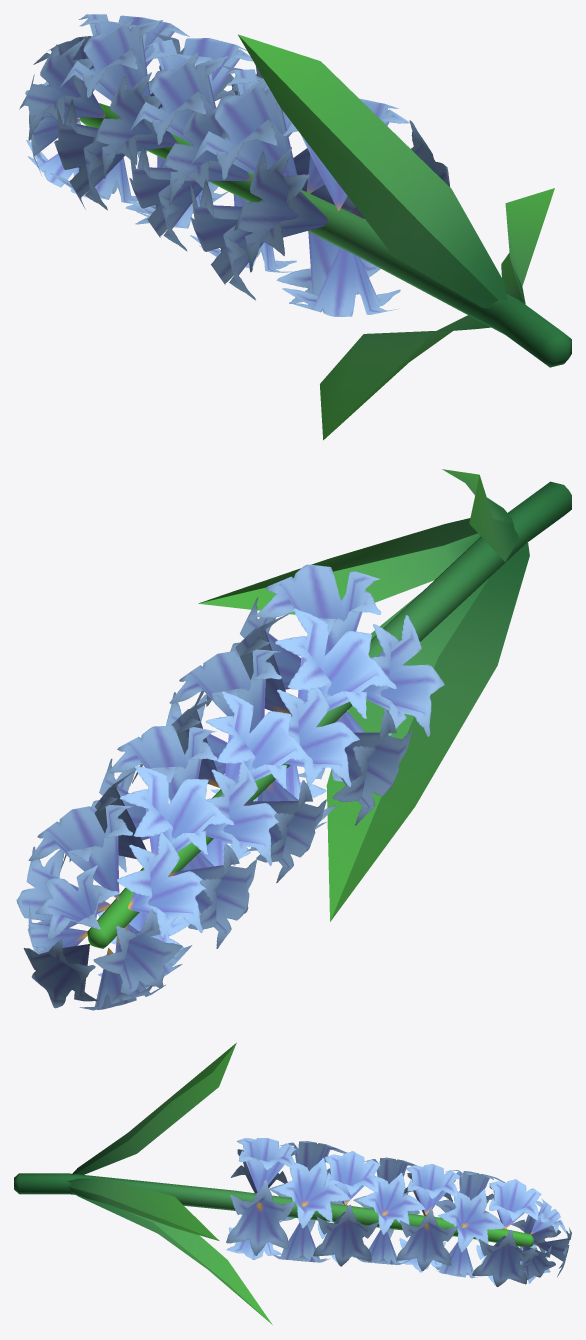
File: SM_Hyacinth_PastellBlue_Small.fbx
The picture shows the model from 3 angles, top to bottom: view 1: azimuth 30°, elevation 25°; view 2: azimuth 150°, elevation 25°; view 3: azimuth 270°, elevation 25°; orthographic projection. The views are drawn at different scales.
Visible parts, largest first — view 1: Hyacinth_PastellBlue_Small; view 2: Hyacinth_PastellBlue_Small; view 3: Hyacinth_PastellBlue_Small.
Part boxes in pixels (x1,y1,x2,y2): Hyacinth_PastellBlue_Small: (19, 14, 571, 440); Hyacinth_PastellBlue_Small: (16, 469, 571, 1010); Hyacinth_PastellBlue_Small: (14, 1042, 571, 1324).
Size of the model in its own units: 47.52 by 69.08 by 139.
